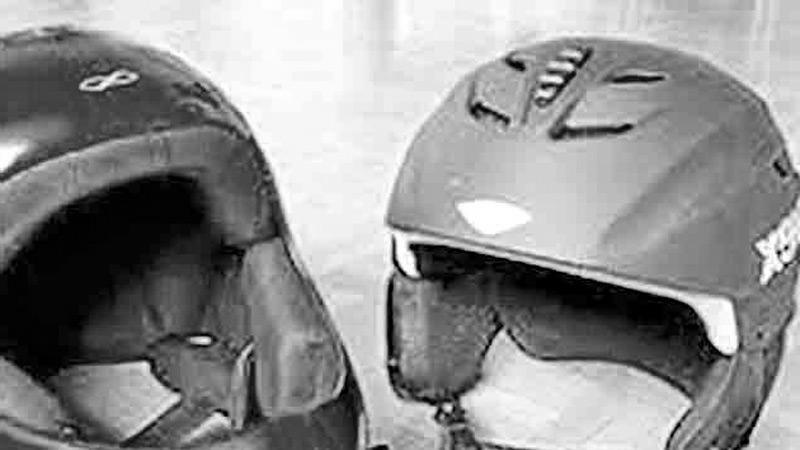Helmet: (382, 33, 800, 450), (0, 26, 355, 450)
